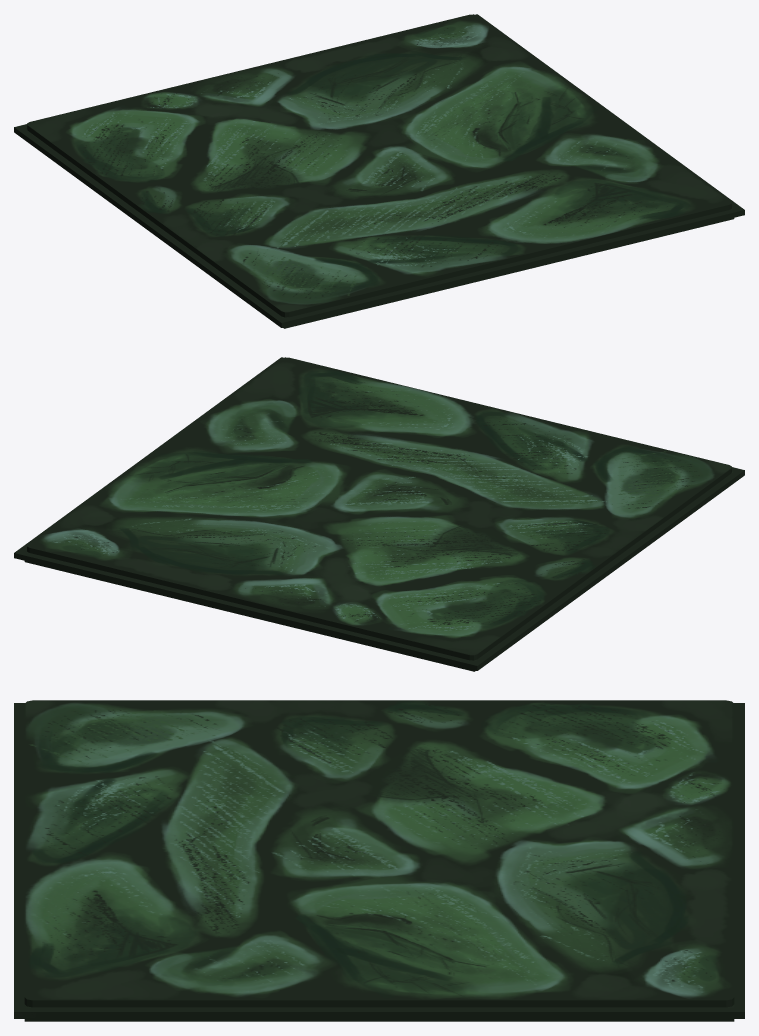
The model's file is Vloer[beta].fbx.
The picture shows the model from 3 angles, top to bottom: view 1: azimuth 30°, elevation 25°; view 2: azimuth 150°, elevation 25°; view 3: azimuth 270°, elevation 25°; orthographic projection. The views are drawn at different scales.
Visible parts, largest first — view 1: Cube.003; view 2: Cube.003; view 3: Cube.003.
Boxes of the visible parts, bbox=[...] form: Cube.003: bbox=[14, 14, 744, 328]; Cube.003: bbox=[14, 357, 744, 671]; Cube.003: bbox=[14, 700, 744, 1021].
Bounding box in the file's own units: 200 × 6.38 × 200.
Materials: 1 (1 with a texture image).
